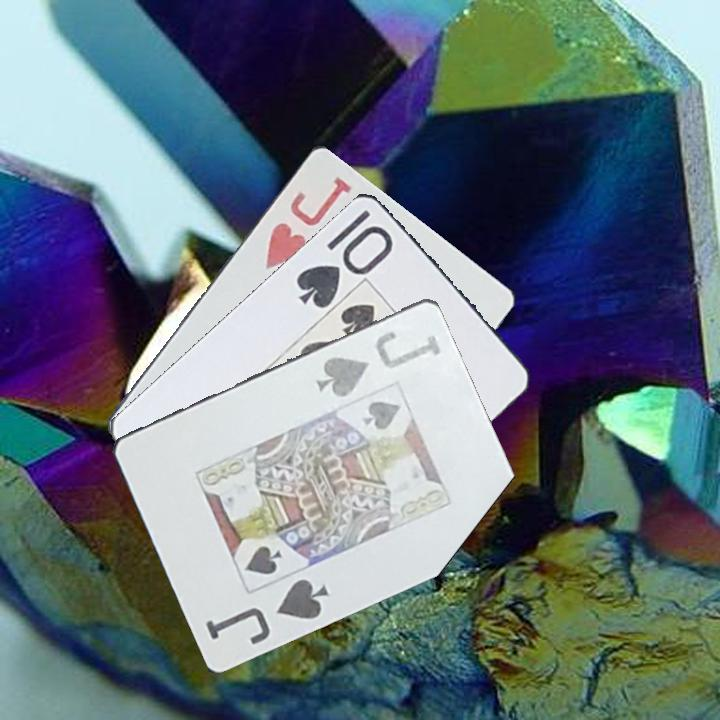Jh: (261, 172, 355, 272)
Js: (313, 326, 444, 400), (202, 573, 332, 647)
Ts: (292, 205, 397, 311)
